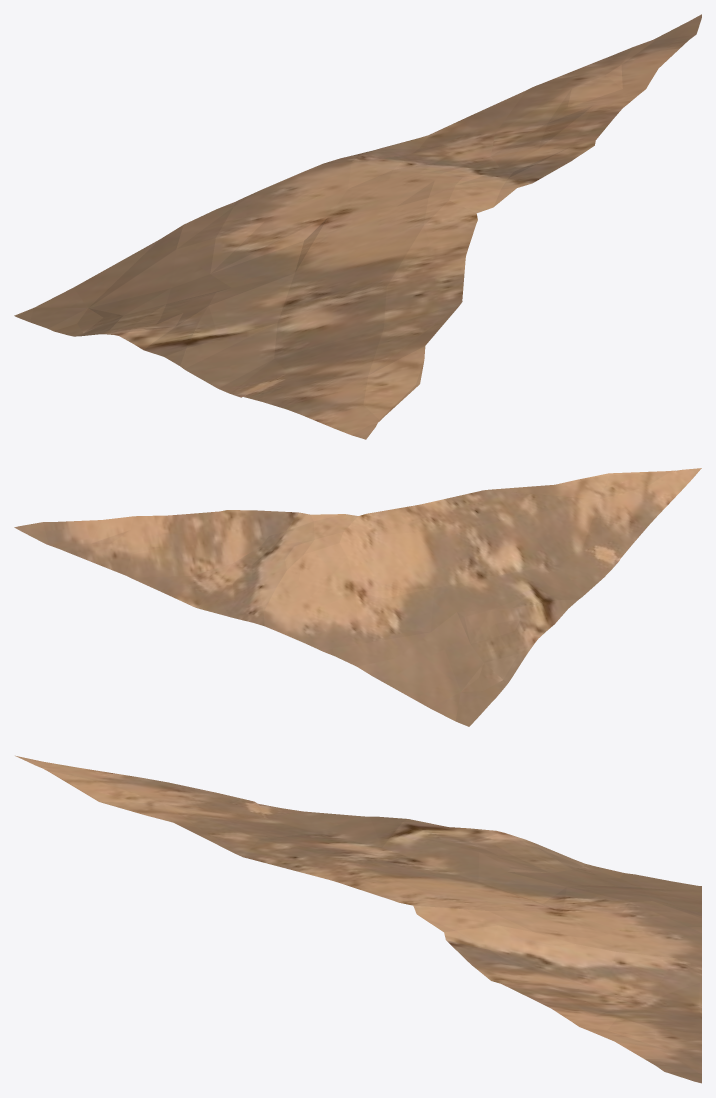
3 views of the same model, one above another, from view 1: azimuth 30°, elevation 25°; view 2: azimuth 150°, elevation 25°; view 3: azimuth 270°, elevation 25° (orthographic). The views are drawn at different scales.
Bounding box in the file's own units: 0.4695 × 0.0872 × 0.4161.
Materials: 1 (1 with a texture image).
